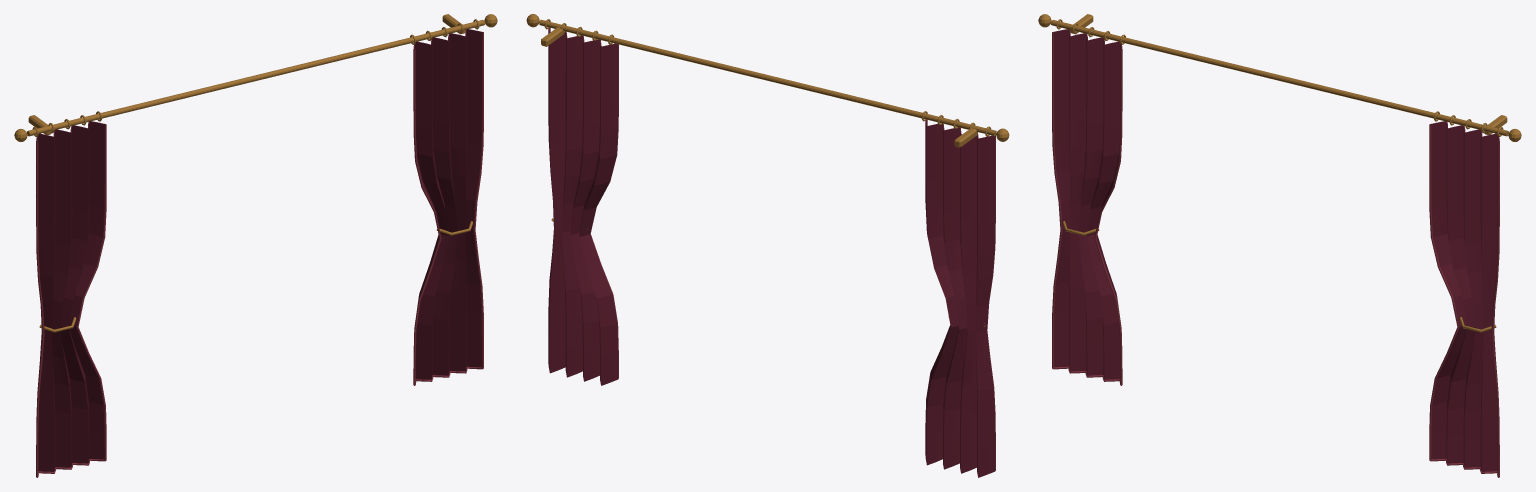
File: PubCurtainPair.glb
The picture shows the model from 3 angles, left to right: view 1: azimuth 30°, elevation 25°; view 2: azimuth 150°, elevation 25°; view 3: azimuth 330°, elevation 25°; orthographic projection.
Visible parts, largest first — view 1: CurtainRight.001, CurtainLeft.001, CurtainRod.001, CurtainEdgeBinding.005, CurtainEdgeBinding.006, CurtainEdgeBinding.004, CurtainEdgeBinding.007; view 2: CurtainLeft.001, CurtainRight.001, CurtainRod.001; view 3: CurtainLeft.001, CurtainRight.001, CurtainRod.001, CurtainEdgeBinding.006, CurtainEdgeBinding.005, CurtainEdgeBinding.007, CurtainEdgeBinding.004.
Boxes of the visible parts, x1,y1,x2,y2 form: CurtainRight.001: [413, 29, 483, 379]; CurtainLeft.001: [36, 121, 105, 471]; CurtainRod.001: [27, 20, 484, 136]; CurtainEdgeBinding.005: [76, 124, 106, 460]; CurtainEdgeBinding.006: [413, 49, 441, 385]; CurtainEdgeBinding.004: [36, 141, 44, 477]; CurtainEdgeBinding.007: [473, 32, 483, 368]; CurtainLeft.001: [925, 120, 995, 476]; CurtainRight.001: [548, 28, 618, 384]; CurtainRod.001: [539, 19, 996, 136]; CurtainLeft.001: [1052, 29, 1122, 379]; CurtainRight.001: [1430, 121, 1499, 471]; CurtainRod.001: [1051, 20, 1508, 136]; CurtainEdgeBinding.006: [1429, 124, 1459, 460]; CurtainEdgeBinding.005: [1094, 49, 1122, 385]; CurtainEdgeBinding.007: [1491, 141, 1499, 477]; CurtainEdgeBinding.004: [1052, 32, 1062, 368].
Size of the model in its own units: 8.73 by 6.09 by 0.7618.
